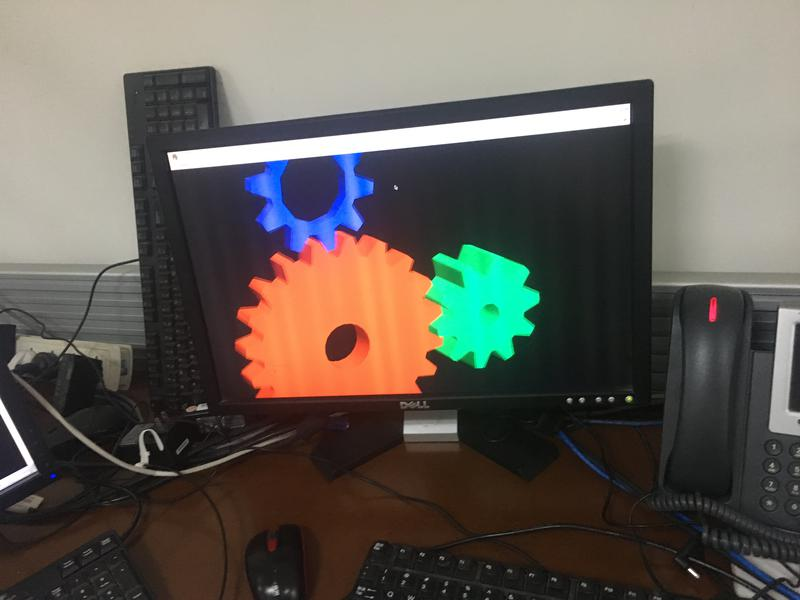glxgears_pass: (164, 146, 560, 406)
